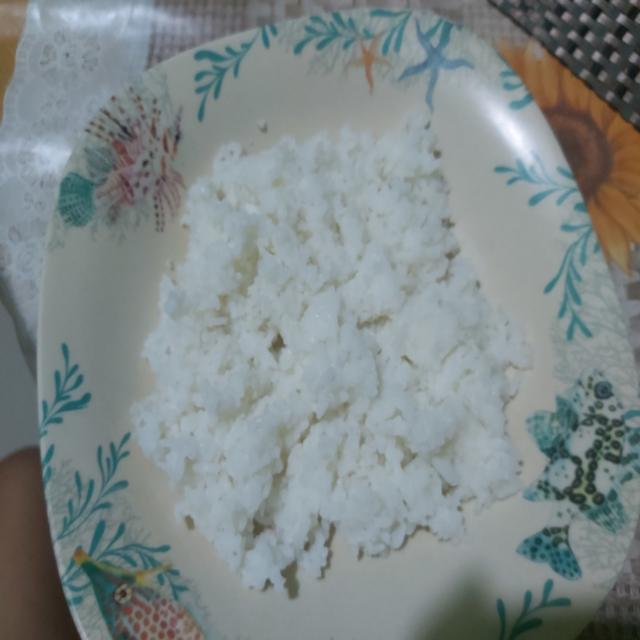Chicken -Chicken Inasal-: (137, 136, 507, 568)
